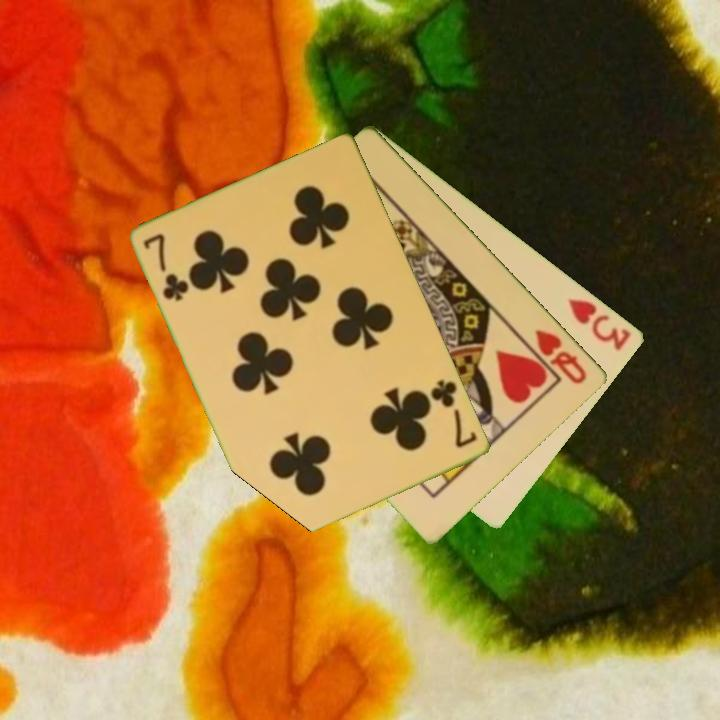3h: (565, 295, 635, 354)
7c: (427, 376, 481, 451), (140, 230, 192, 305)
Qh: (532, 325, 591, 387)
